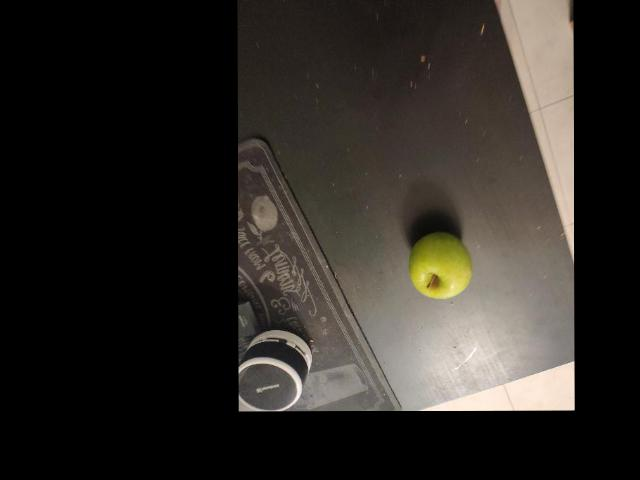apple: (346, 237, 425, 309)
